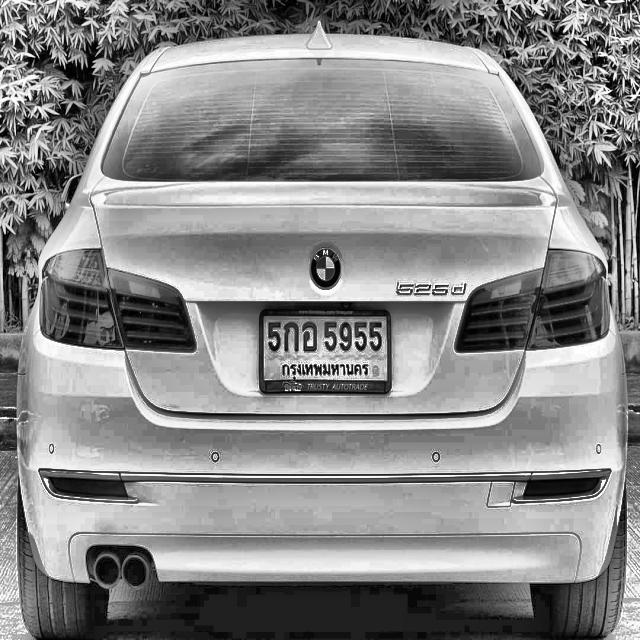license-plate: (258, 303, 394, 397)
